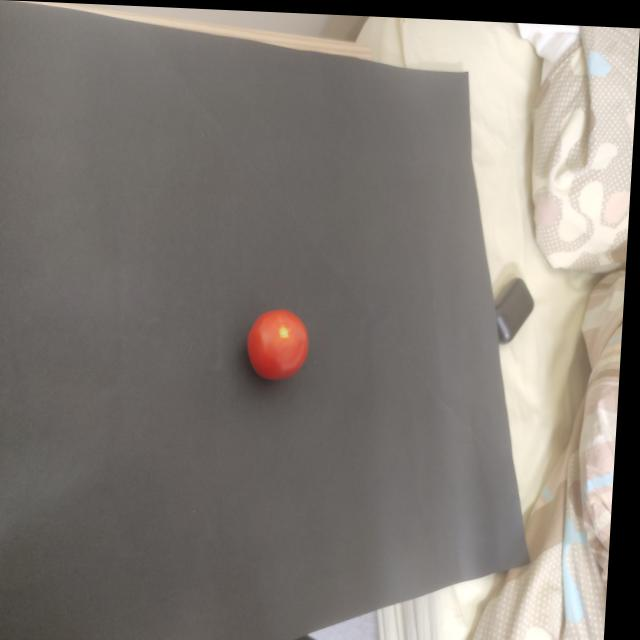kirmizi: (235, 291, 326, 395)
